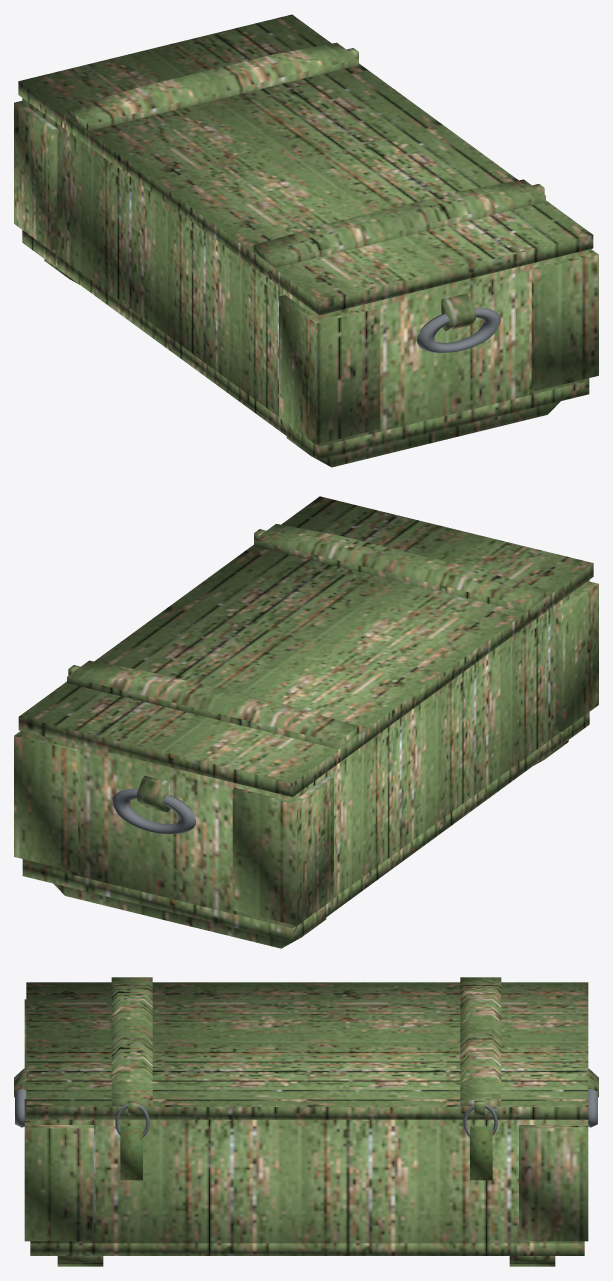
File: Ящик_1.fbx
3 views of the same model, one above another, from view 1: azimuth 30°, elevation 25°; view 2: azimuth 150°, elevation 25°; view 3: azimuth 270°, elevation 25° (orthographic). The views are drawn at different scales.
Visible parts, largest first — view 1: Объект Куб.2; view 2: Объект Куб.2; view 3: Объект Куб.2.
Boxes of the visible parts, left/top/right/bottom form: Объект Куб.2: left=14, top=14, right=598, bottom=467; Объект Куб.2: left=14, top=496, right=598, bottom=948; Объект Куб.2: left=14, top=977, right=598, bottom=1266.
Size of the model in its own units: 222 by 148 by 422.
1 material, 1 textured.
